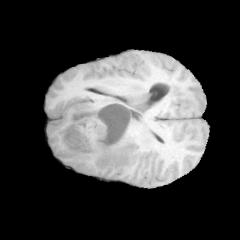glioma: (61, 98, 140, 172)
